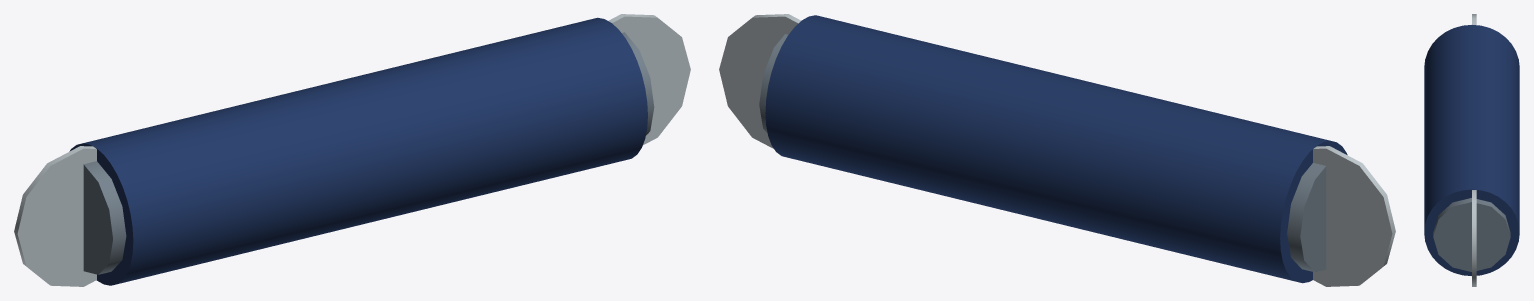
The model's file is dart_rosa_right_rolled.glb.
3 renders of one model, left to right at view 1: azimuth 30°, elevation 25°; view 2: azimuth 150°, elevation 25°; view 3: azimuth 270°, elevation 25°, orthographic. The views are drawn at different scales.
Visible parts, largest first — view 1: dart_rosa_rdeploymentblanketmesh_Indigo_solar_cells, dart_rosa_rdeploymentrollermesh_Satin_aluminum, dart_rosa_rdeploymentrollermesh_Machined_steel; view 2: dart_rosa_rdeploymentblanketmesh_Indigo_solar_cells, dart_rosa_rdeploymentrollermesh_Satin_aluminum, dart_rosa_rdeploymentrollermesh_Machined_steel; view 3: dart_rosa_rdeploymentblanketmesh_Indigo_solar_cells, dart_rosa_rdeploymentrollermesh_Machined_steel, dart_rosa_rdeploymentrollermesh_Satin_aluminum.
Boxes of the visible parts, x1=… form: dart_rosa_rdeploymentblanketmesh_Indigo_solar_cells: x1=69, y1=17, x2=647, y2=285; dart_rosa_rdeploymentrollermesh_Satin_aluminum: x1=14, y1=14, x2=690, y2=286; dart_rosa_rdeploymentrollermesh_Machined_steel: x1=83, y1=32, x2=654, y2=274; dart_rosa_rdeploymentblanketmesh_Indigo_solar_cells: x1=765, y1=15, x2=1347, y2=283; dart_rosa_rdeploymentrollermesh_Satin_aluminum: x1=719, y1=14, x2=1395, y2=286; dart_rosa_rdeploymentrollermesh_Machined_steel: x1=759, y1=34, x2=1326, y2=272; dart_rosa_rdeploymentblanketmesh_Indigo_solar_cells: x1=1424, y1=25, x2=1519, y2=275; dart_rosa_rdeploymentrollermesh_Machined_steel: x1=1433, y1=198, x2=1510, y2=271; dart_rosa_rdeploymentrollermesh_Satin_aluminum: x1=1472, y1=14, x2=1476, y2=286.
Size of the model in its own units: 1.12 by 0.22 by 0.21.
